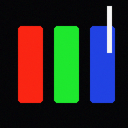4 line_v: (107, 6, 111, 52)
